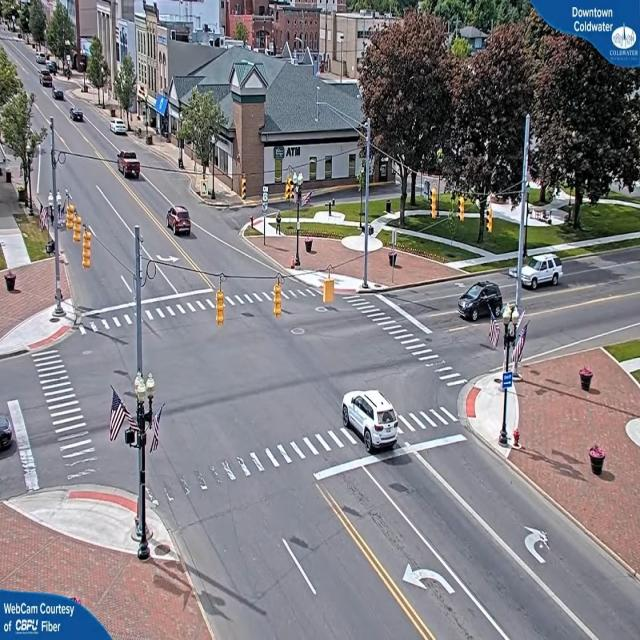car: (342, 391, 400, 455), (460, 282, 508, 325), (521, 251, 564, 292), (165, 208, 192, 237), (118, 151, 142, 180), (112, 121, 130, 138)
